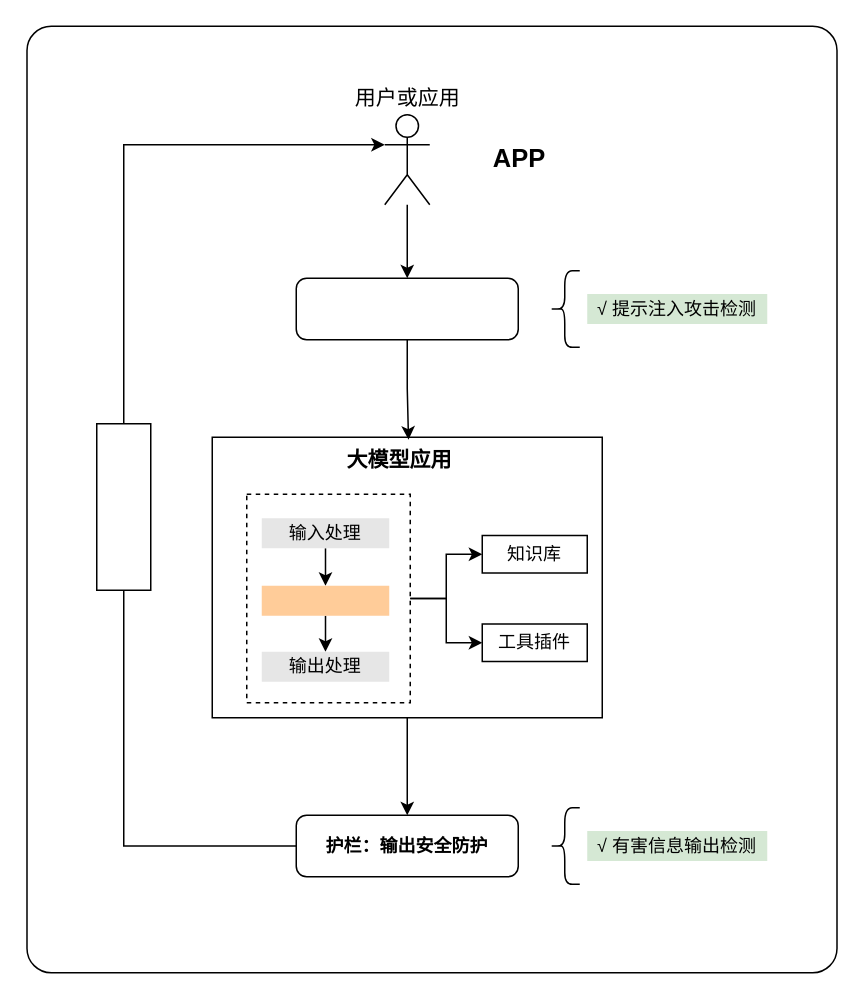
The diagram is 863 pixels wide and 999 high, and some of its shapes have lost their labels. The box of each missing label's shape, as (x1, y1, x2, y2) in pixels:
LLM: (261, 585, 388, 615)
响应结果: (95, 422, 151, 590)
护栏：输入安全防护: (295, 277, 518, 340)
